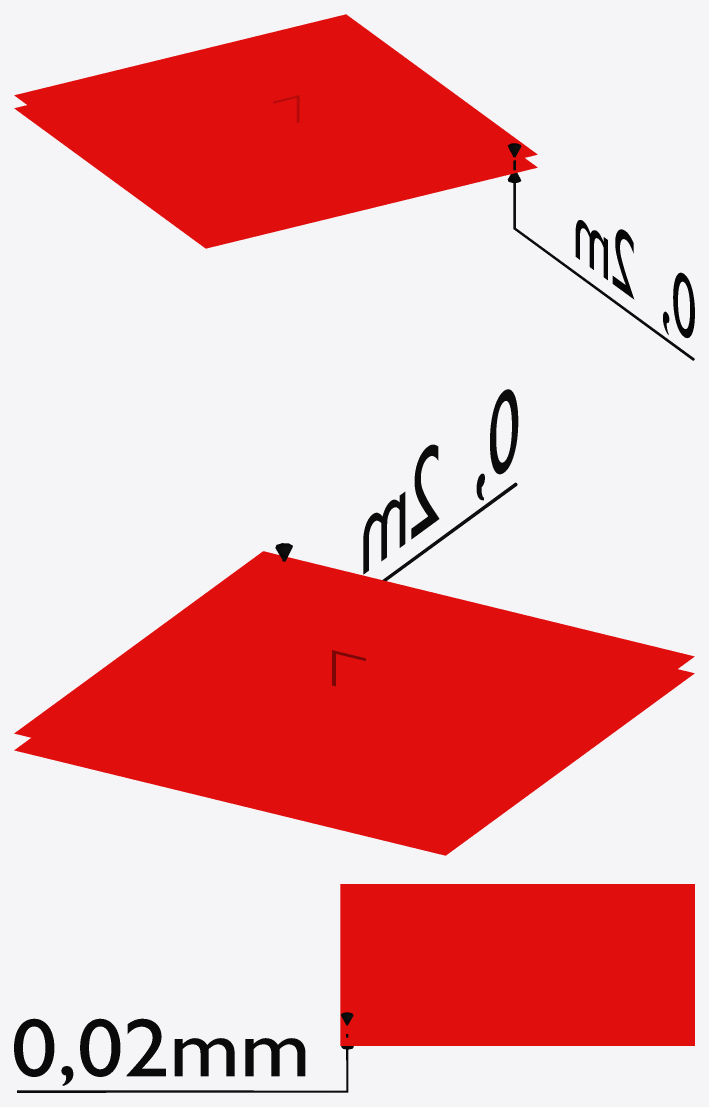
3 renders of one model, top to bottom at view 1: azimuth 30°, elevation 25°; view 2: azimuth 150°, elevation 25°; view 3: azimuth 270°, elevation 25°, orthographic. The views are drawn at different scales.
Parts seen in each view (by area): view 1: ZT_perpendicularite1.001, Text.008, NurbsPath.008; view 2: ZT_perpendicularite1.001, Text.008; view 3: ZT_perpendicularite1.001, Text.008, NurbsPath.008.
Part boxes in pixels (bbox=[...]): ZT_perpendicularite1.001: bbox=[14, 14, 537, 248]; Text.008: bbox=[575, 220, 694, 337]; NurbsPath.008: bbox=[513, 156, 694, 360]; ZT_perpendicularite1.001: bbox=[14, 551, 694, 855]; Text.008: bbox=[363, 389, 518, 574]; ZT_perpendicularite1.001: bbox=[340, 884, 694, 1045]; Text.008: bbox=[14, 1018, 305, 1085]; NurbsPath.008: bbox=[17, 1024, 348, 1092].
Bounding box in the file's own units: 2.68 × 0.7747 × 5.15.
